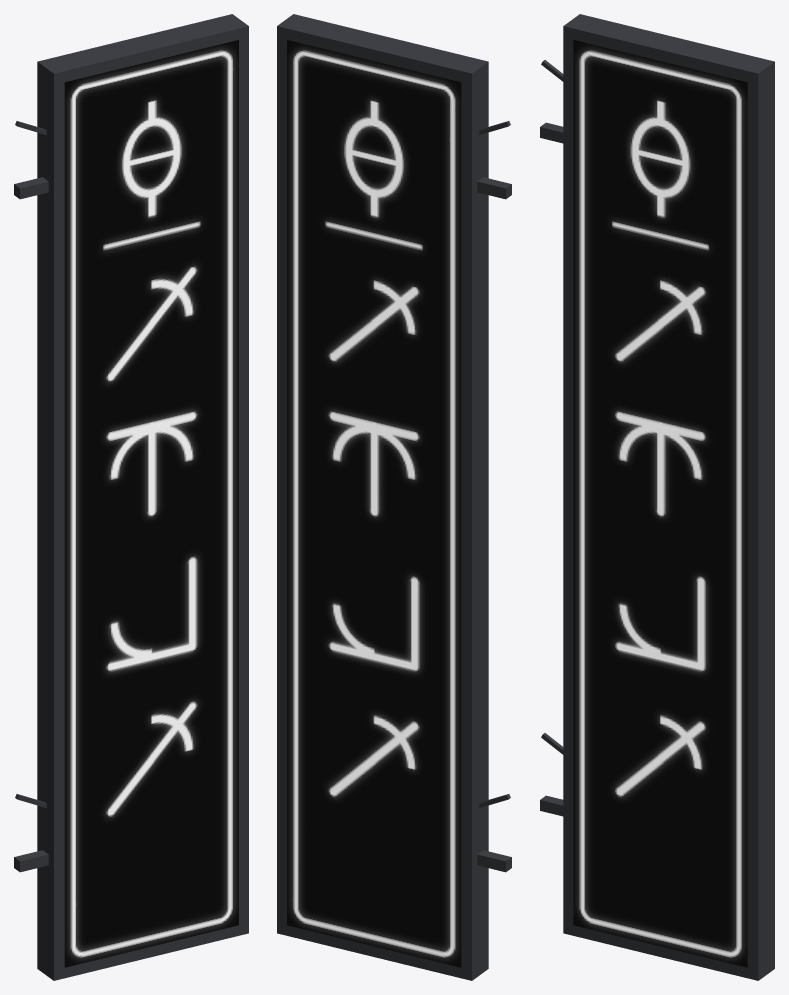
File: sign_blade_0.gltf
The picture shows the model from 3 angles, left to right: view 1: azimuth 30°, elevation 25°; view 2: azimuth 150°, elevation 25°; view 3: azimuth 330°, elevation 25°; orthographic projection.
Visible parts, largest first — view 1: sign_blade_0; view 2: sign_blade_0; view 3: sign_blade_0.
Boxes of the visible parts, x1,y1,x2,y2 form: sign_blade_0: (14,14,248,980); sign_blade_0: (277,14,511,980); sign_blade_0: (540,14,774,980).
Bounding box in the file's own units: 1.73 × 6.66 × 0.23.
Materials: 2 (1 with a texture image).
